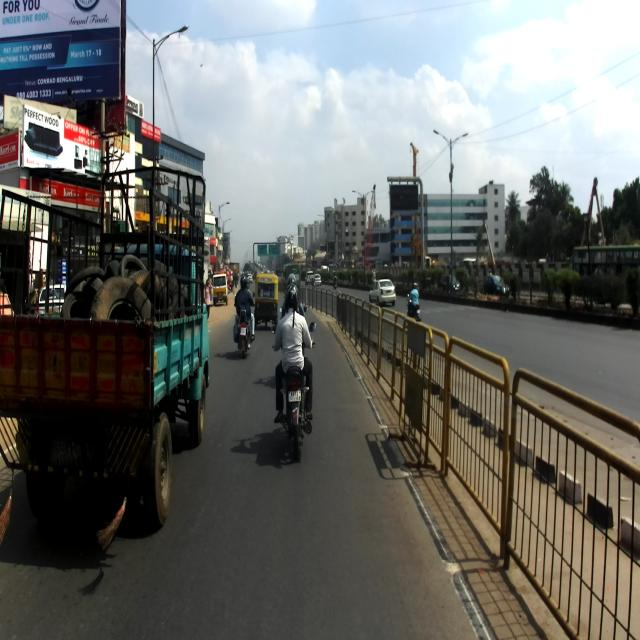motorcycle ahead at: (270, 358, 320, 471)
truck ahead at: (0, 161, 211, 535)
